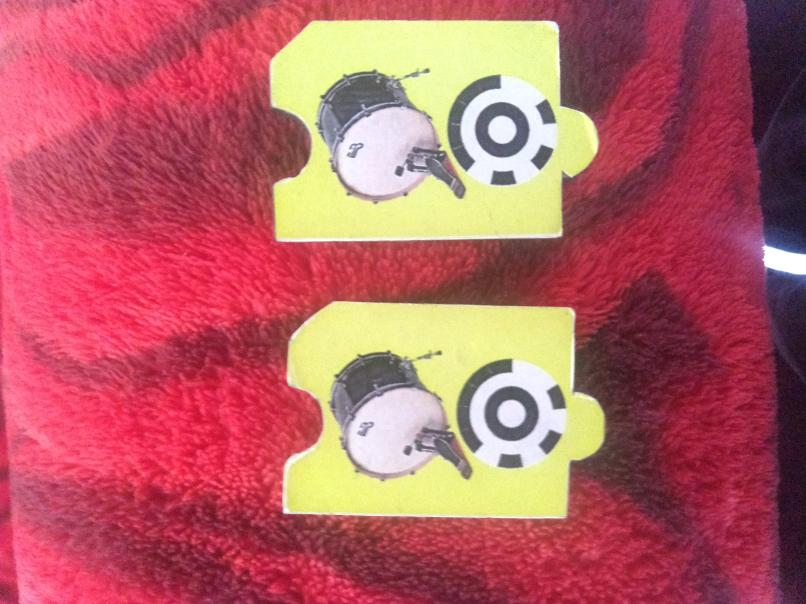bumbo: (269, 17, 605, 242), (281, 299, 612, 523)
